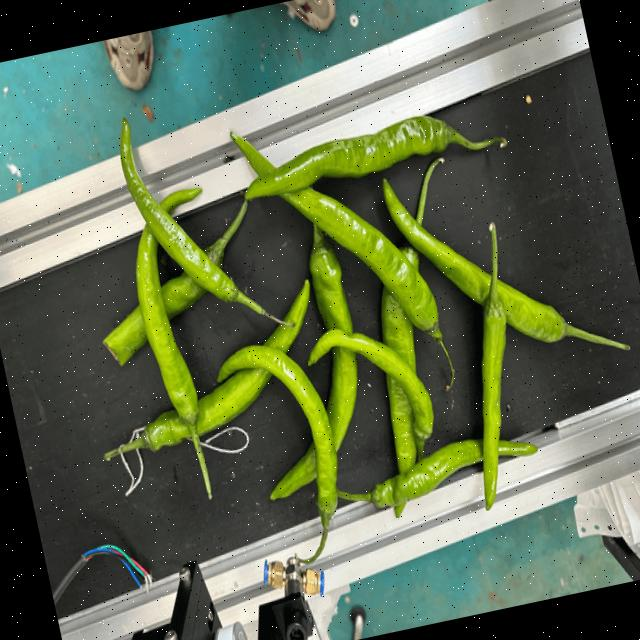chili: (226, 130, 444, 340), (379, 171, 568, 344), (138, 274, 311, 450), (266, 239, 356, 502), (212, 339, 340, 520), (115, 113, 237, 302), (242, 114, 453, 200), (131, 183, 202, 429), (98, 241, 225, 367), (304, 326, 435, 440), (368, 436, 539, 507), (378, 245, 420, 523), (479, 292, 506, 514)
